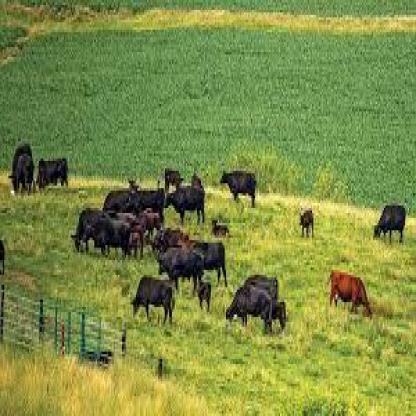cow: (156, 250, 206, 295), (329, 267, 373, 312), (178, 237, 228, 276), (132, 275, 176, 319), (227, 288, 272, 330), (373, 203, 408, 248), (95, 220, 132, 260), (220, 172, 260, 207), (74, 211, 112, 245), (126, 190, 168, 219), (162, 191, 205, 218), (13, 145, 36, 189), (103, 188, 136, 216), (39, 157, 69, 187), (153, 229, 187, 254), (244, 277, 279, 297), (297, 208, 318, 233), (159, 166, 185, 186), (196, 280, 213, 307), (265, 304, 287, 324), (210, 218, 231, 235), (208, 222, 233, 236), (190, 176, 205, 193)
